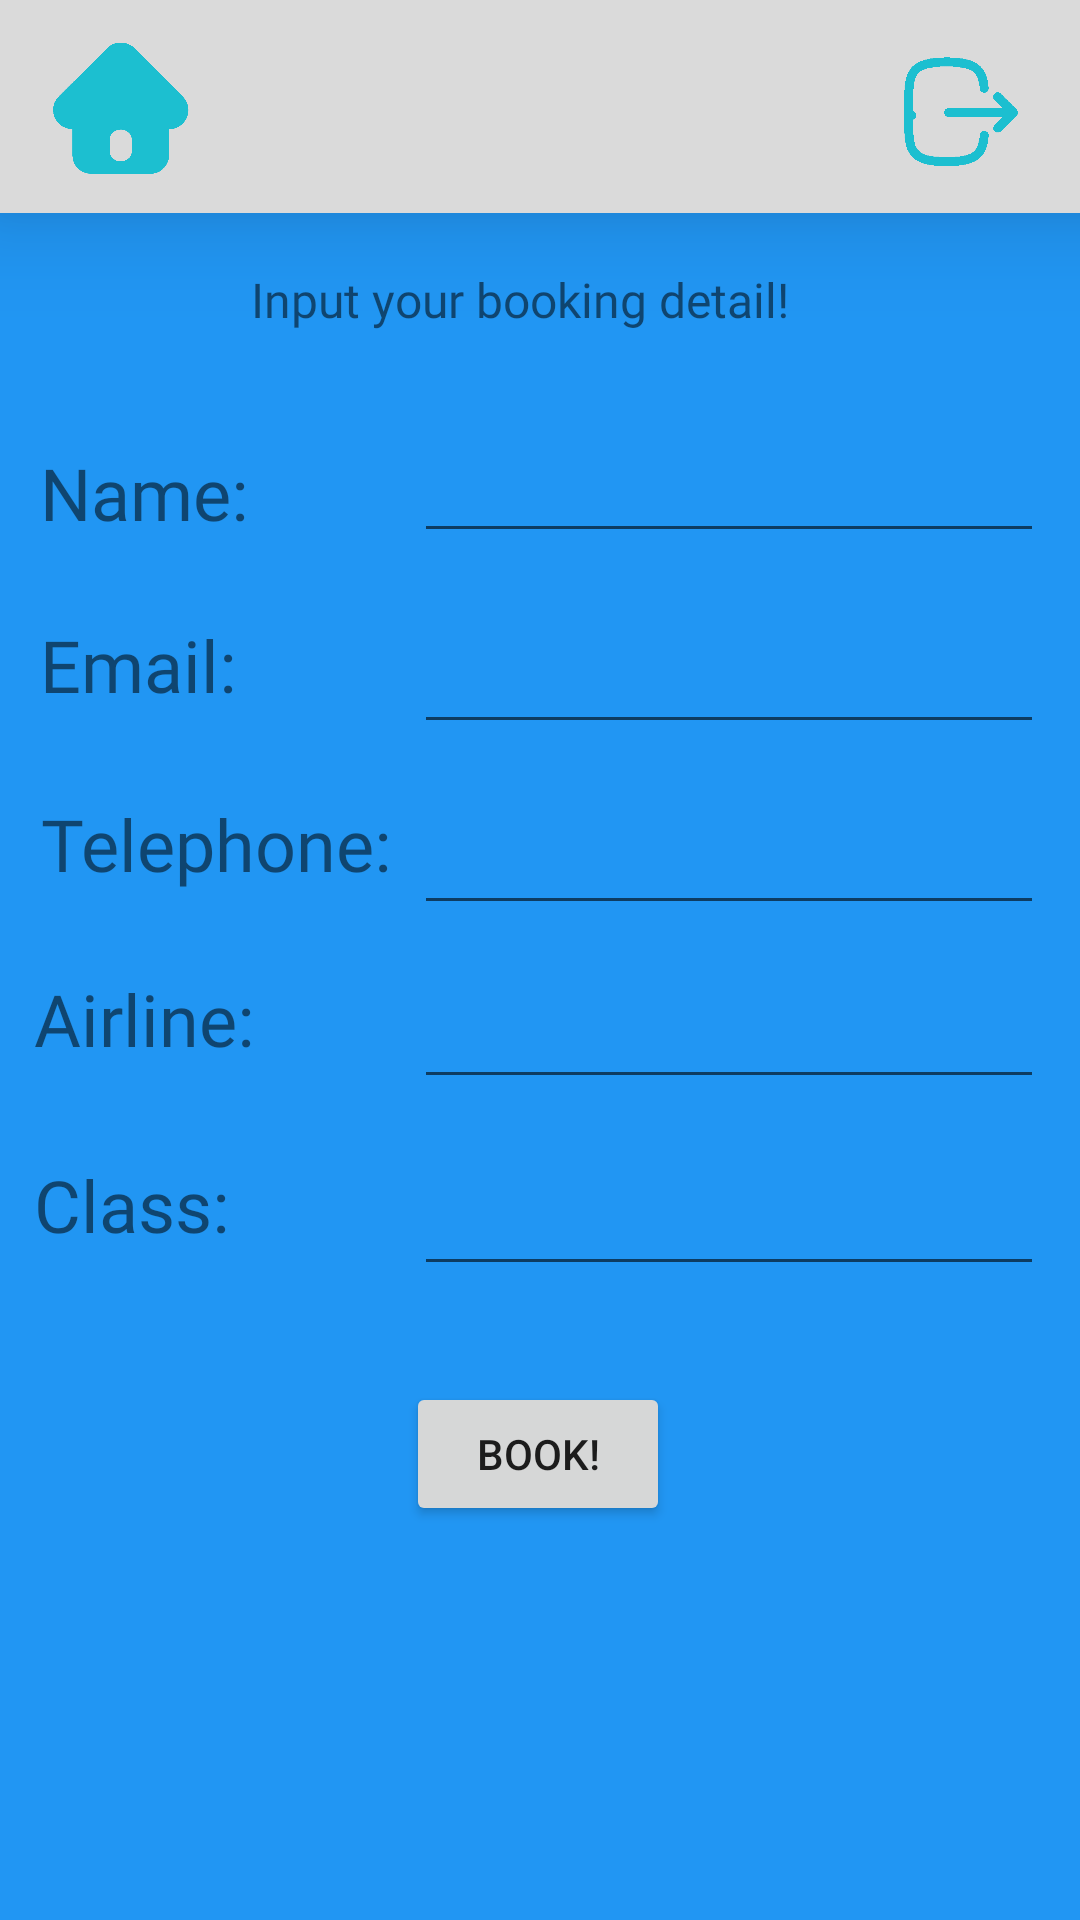

Locate icon controls on the screen. Image size 1080w x 1920h, boxes as [left=x1, top=y1, right=x2, bottom=y2].
rumah: [left=53, top=43, right=189, bottom=174]
